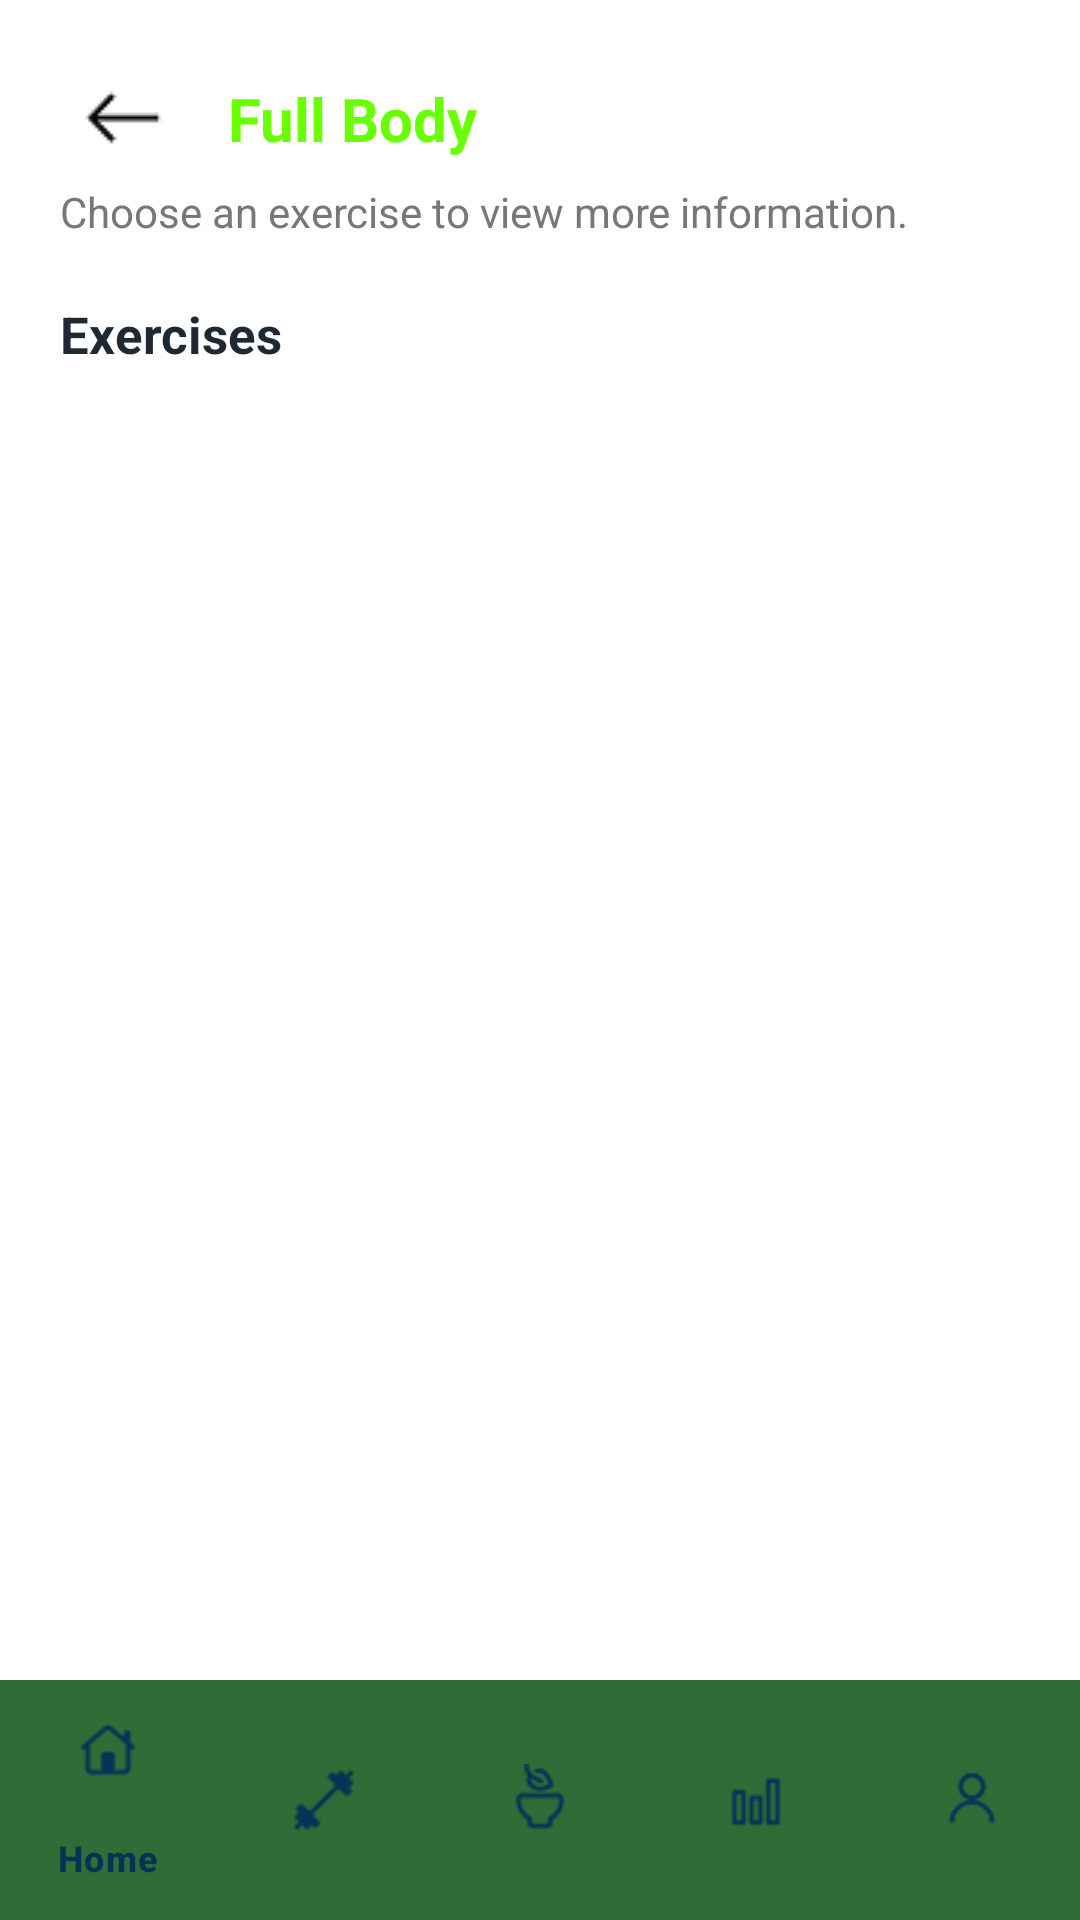

Screen size 1080 × 1920. Icon name, then its box in pixels as {"left": x1, "top": y1, "right": x2, "bottom": y2}:
Back: {"left": 86, "top": 92, "right": 161, "bottom": 144}
